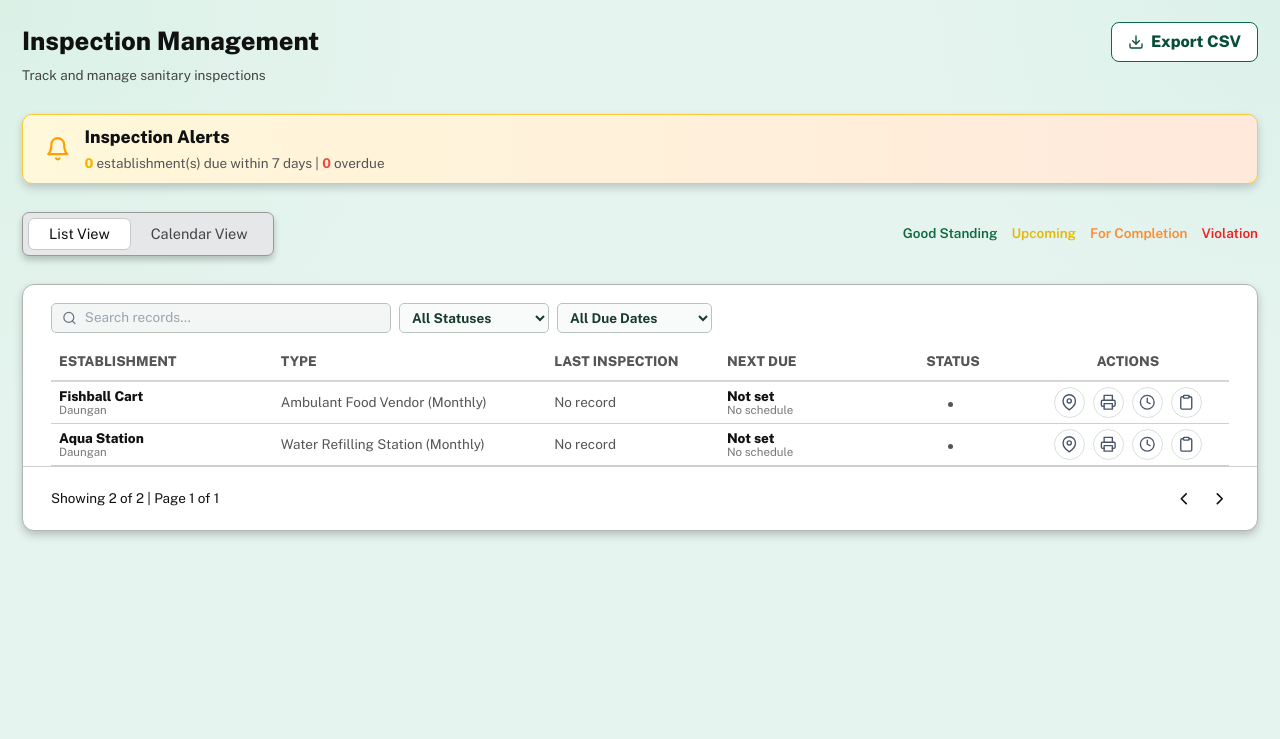
Scenario: business type with no configured requirements › shows an honest empty state instead of a generic checklist
This screenshot has width=1280, height=739.
Click the button named "Conduct inspection for Fishball Cart" at (1186, 402), box [1171,387,1202,418]
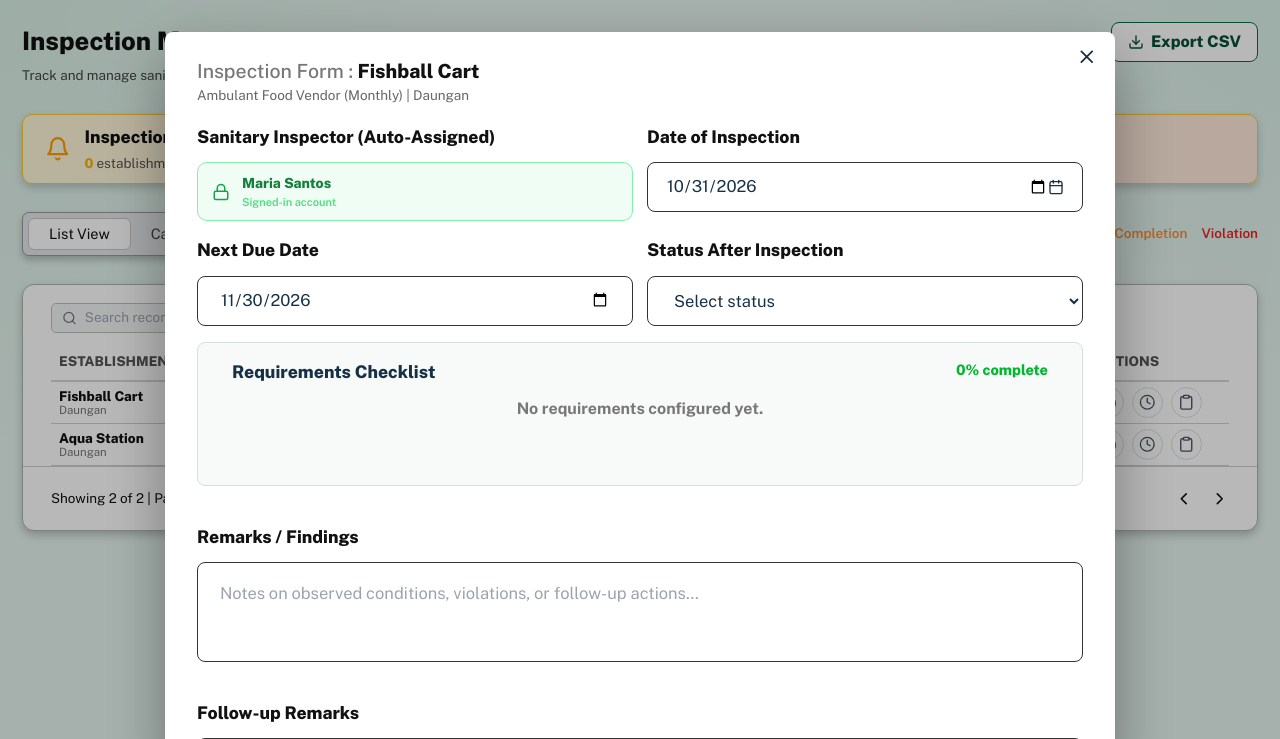
Result: the text "No requirements configured yet." is shown at [517,399,763,418]
